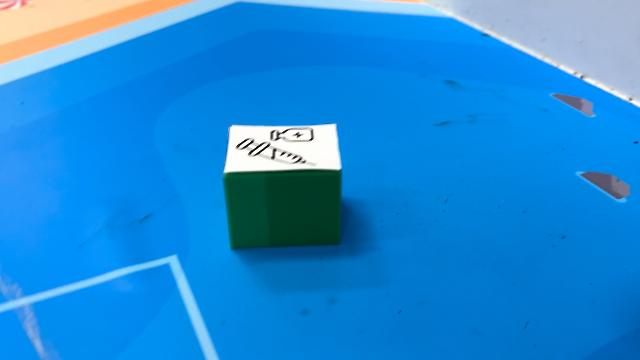syringe: (222, 122, 342, 250)
